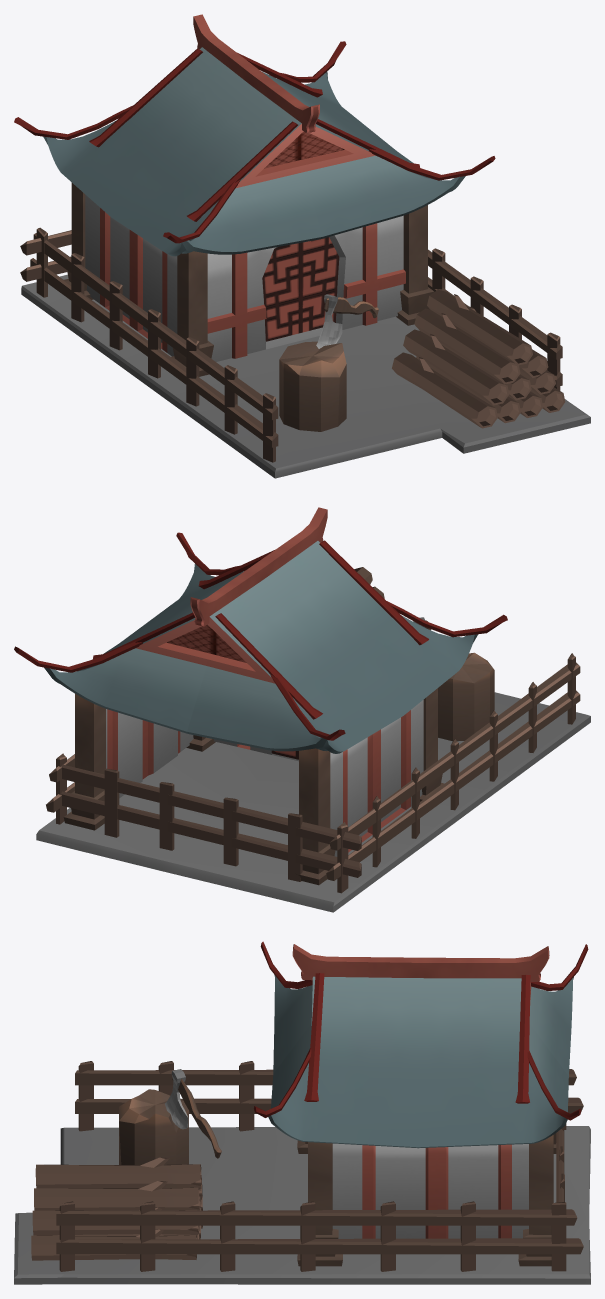
The model's file is sawmill_2lvl.fbx.
The picture shows the model from 3 angles, top to bottom: view 1: azimuth 30°, elevation 25°; view 2: azimuth 150°, elevation 25°; view 3: azimuth 270°, elevation 25°; orthographic projection. The views are drawn at different scales.
Parts seen in each view (by area): view 1: sawmill_2lvl; view 2: sawmill_2lvl; view 3: sawmill_2lvl.
Part boxes in pixels (x1,y1,x2,y2): sawmill_2lvl: [14, 14, 590, 478]; sawmill_2lvl: [14, 507, 590, 912]; sawmill_2lvl: [14, 941, 590, 1284].
Bounding box in the file's own units: 4.53 × 3.33 × 6.47.
